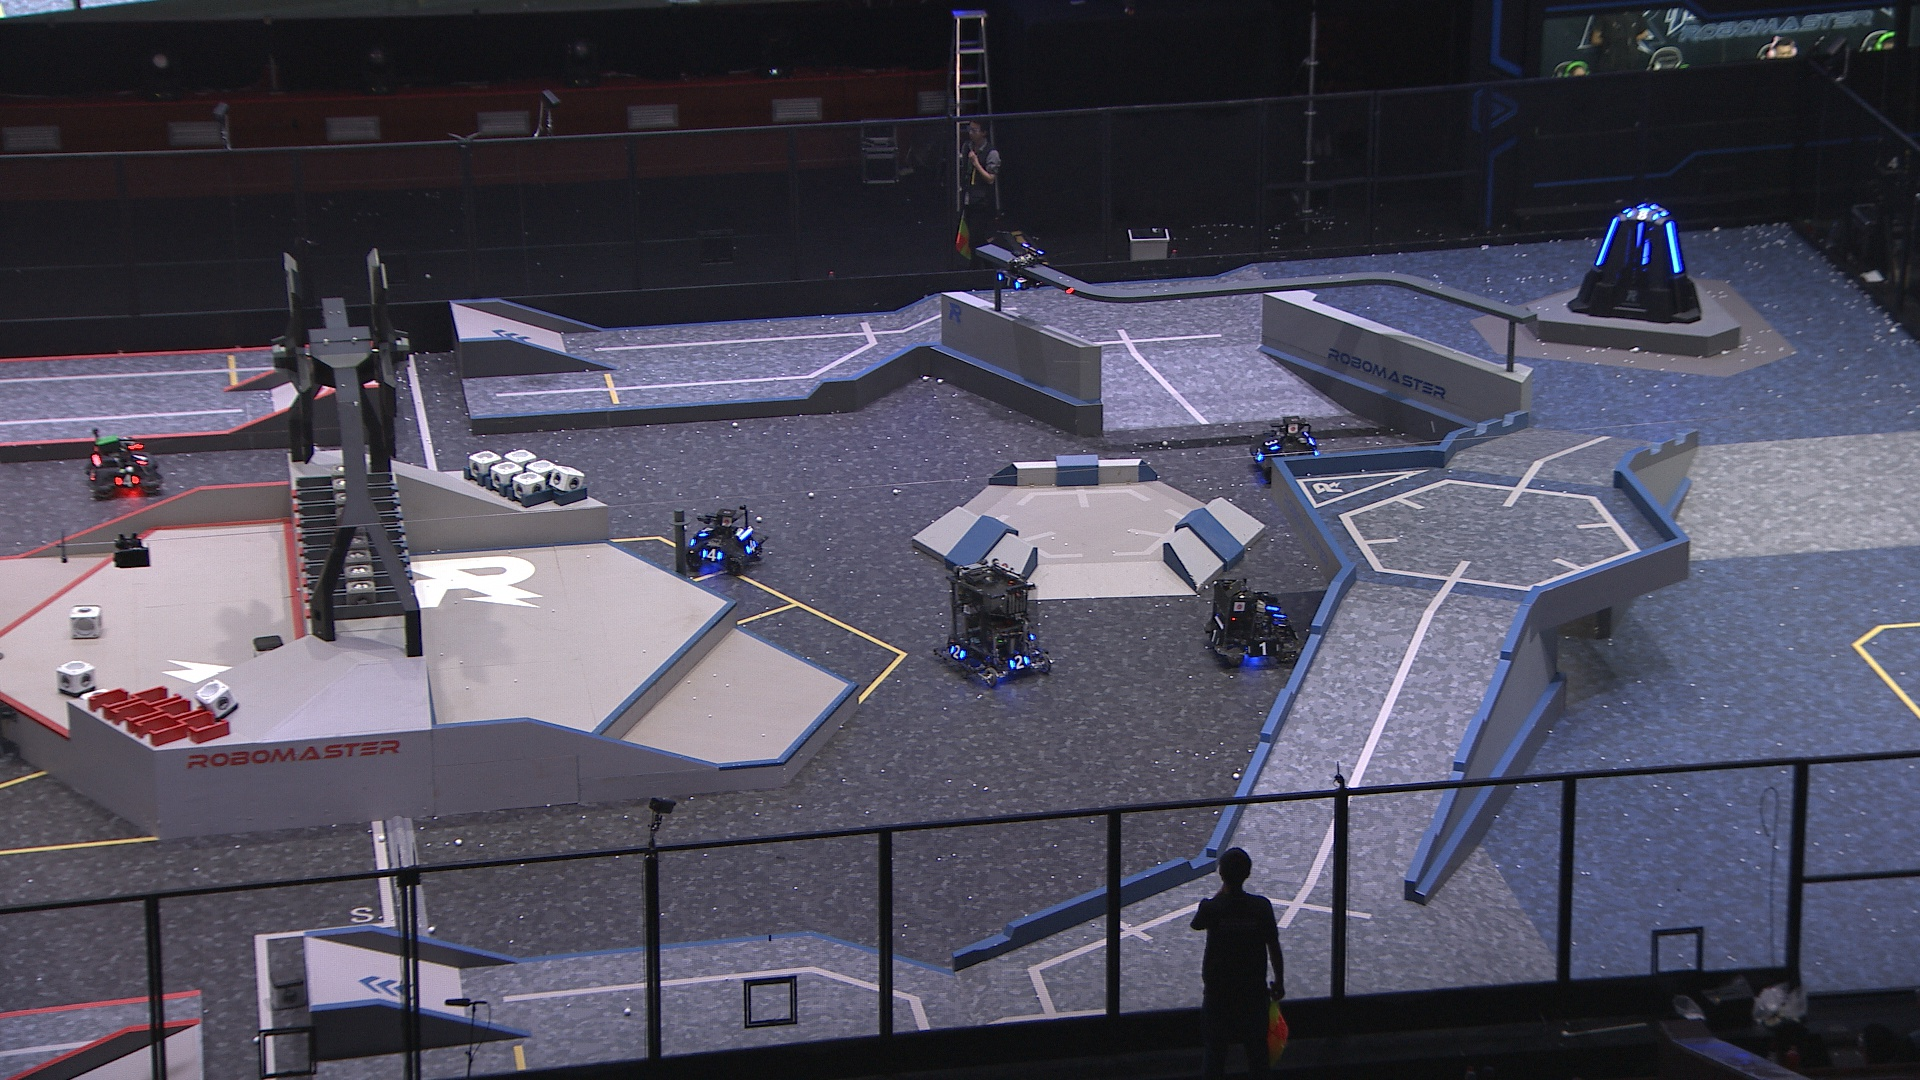armor: (1593, 216, 1621, 268), (1664, 220, 1687, 276), (1244, 640, 1282, 659), (996, 273, 1025, 291), (1625, 208, 1662, 222), (1007, 655, 1031, 673), (115, 473, 140, 489), (702, 549, 727, 564), (949, 644, 969, 662), (1640, 237, 1652, 266), (1207, 626, 1222, 647), (1634, 222, 1646, 248), (744, 537, 760, 556), (1250, 447, 1267, 463), (1263, 436, 1282, 451), (133, 451, 149, 467), (698, 524, 713, 538)
base: (1565, 204, 1705, 324)
car: (936, 559, 1055, 690), (1207, 578, 1300, 669), (684, 504, 765, 576), (86, 427, 164, 501), (1251, 417, 1324, 484)
watcher: (994, 240, 1044, 291)
